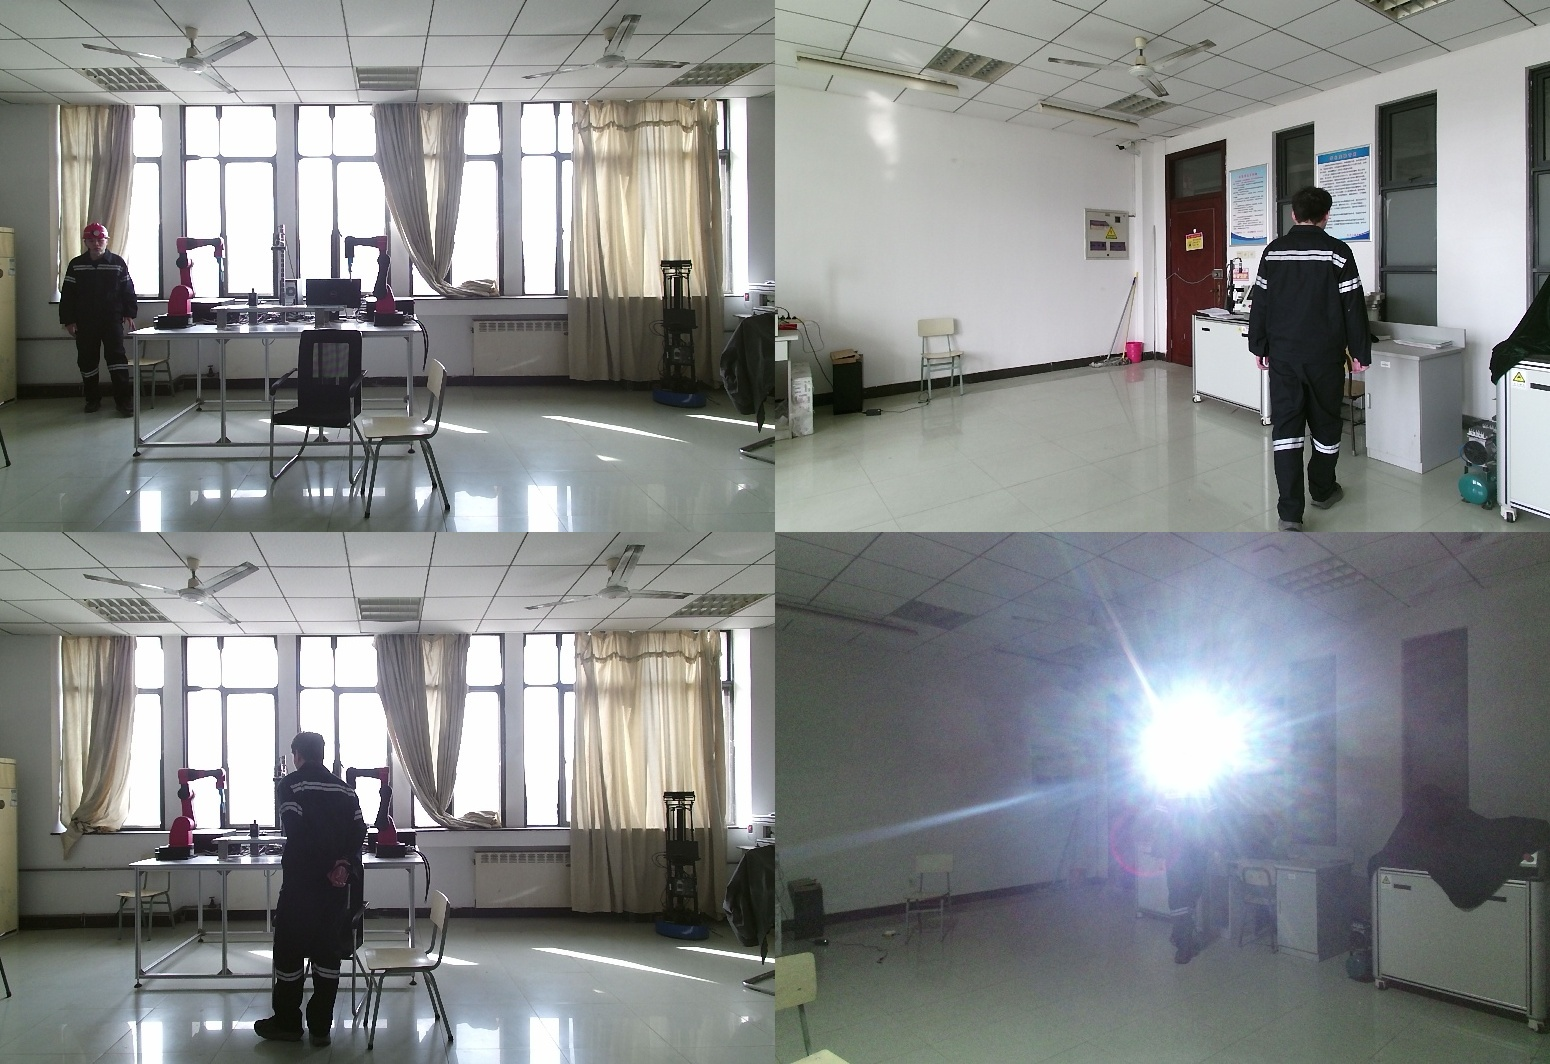person: (1246, 186, 1378, 532), (255, 734, 369, 1043), (1147, 745, 1227, 969), (57, 224, 137, 416)
